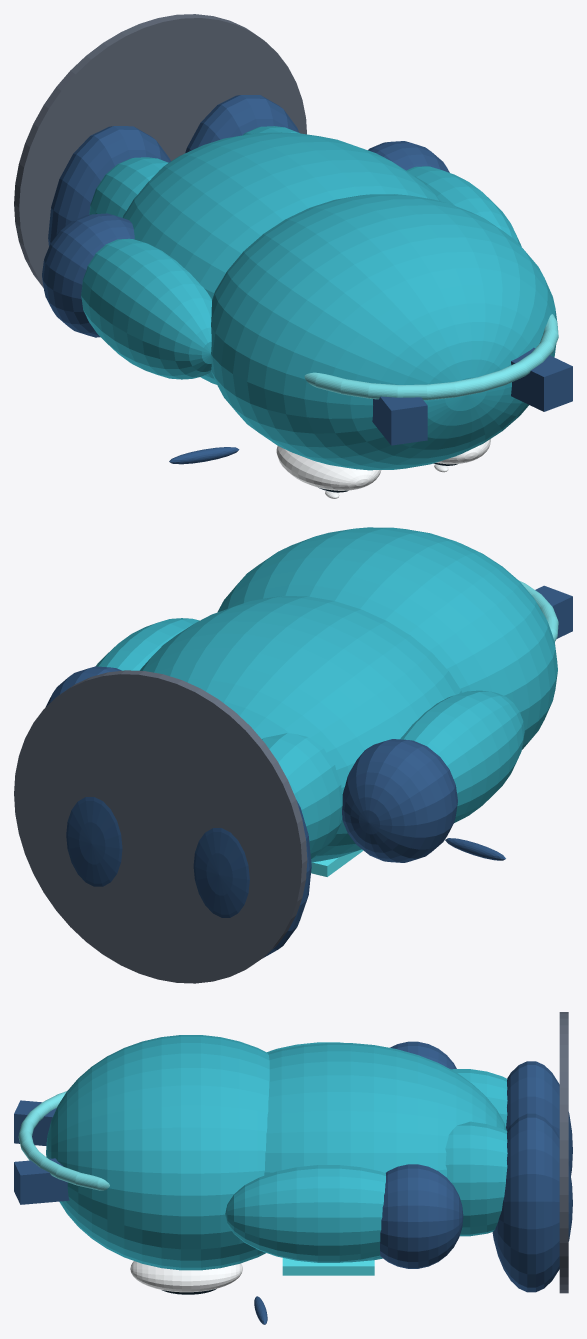
File: luma_reaction_air_quality.glb
3 renders of one model, top to bottom at view 1: azimuth 30°, elevation 25°; view 2: azimuth 150°, elevation 25°; view 3: azimuth 270°, elevation 25°, orthographic. The views are drawn at different scales.
Visible parts, largest first — view 1: CHR_Head, CHR_DisplayBase, CHR_Torso, CHR_LeftArm, CHR_LeftHand, CHR_LeftFoot, CHR_StatusRing, CHR_RightFoot, CHR_LeftLeg, CHR_RightArm, CHR_RightAntenna, CHR_LeftAntenna (+3 smaller); view 2: CHR_DisplayBase, CHR_Torso, CHR_Head, CHR_LeftHand, CHR_LeftArm, CHR_LeftLeg, CHR_LeftFoot, CHR_RightFoot, CHR_RightArm, CHR_LeftAntenna, CHR_RightHand, CHR_LeftBrow (+2 smaller); view 3: CHR_Head, CHR_Torso, CHR_RightArm, CHR_RightFoot, CHR_RightHand, CHR_RightLeg, CHR_LeftFoot, CHR_DisplayBase, CHR_RightEyeWhite, CHR_StatusRing, CHR_RightAntenna, CHR_ChestSensor (+3 smaller).
Boxes of the visible parts, x1=… form: CHR_Head: x1=211, y1=194, x2=557, y2=470; CHR_DisplayBase: x1=14, y1=14, x2=306, y2=287; CHR_Torso: x1=122, y1=132, x2=440, y2=384; CHR_LeftArm: x1=81, y1=238, x2=211, y2=379; CHR_LeftHand: x1=42, y1=213, x2=134, y2=337; CHR_LeftFoot: x1=48, y1=126, x2=170, y2=246; CHR_StatusRing: x1=304, y1=314, x2=558, y2=400; CHR_RightFoot: x1=185, y1=95, x2=299, y2=152; CHR_LeftLeg: x1=89, y1=157, x2=168, y2=217; CHR_RightArm: x1=406, y1=166, x2=521, y2=246; CHR_RightAntenna: x1=511, y1=347, x2=572, y2=411; CHR_LeftAntenna: x1=372, y1=396, x2=427, y2=445; CHR_DisplayBase: x1=14, y1=670, x2=307, y2=983; CHR_Torso: x1=140, y1=595, x2=461, y2=862; CHR_Head: x1=217, y1=527, x2=557, y2=749; CHR_LeftHand: x1=342, y1=739, x2=457, y2=862; CHR_LeftArm: x1=400, y1=690, x2=524, y2=822; CHR_LeftLeg: x1=262, y1=733, x2=342, y2=859; CHR_LeftFoot: x1=193, y1=800, x2=311, y2=958; CHR_RightFoot: x1=66, y1=797, x2=122, y2=886; CHR_RightArm: x1=96, y1=618, x2=199, y2=670; CHR_LeftAntenna: x1=535, y1=585, x2=572, y2=638; CHR_RightHand: x1=45, y1=666, x2=121, y2=707; CHR_LeftBrow: x1=445, y1=838, x2=505, y2=860; CHR_Head: x1=46, y1=1035, x2=269, y2=1270; CHR_Torso: x1=264, y1=1043, x2=506, y2=1262; CHR_RightArm: x1=225, y1=1165, x2=385, y2=1262; CHR_RightFoot: x1=492, y1=1113, x2=572, y2=1292; CHR_RightHand: x1=380, y1=1164, x2=463, y2=1268; CHR_RightLeg: x1=445, y1=1121, x2=507, y2=1236; CHR_LeftFoot: x1=506, y1=1061, x2=572, y2=1175; CHR_DisplayBase: x1=559, y1=1012, x2=568, y2=1293; CHR_RightEyeWhite: x1=130, y1=1261, x2=242, y2=1292; CHR_StatusRing: x1=18, y1=1091, x2=109, y2=1190; CHR_RightAntenna: x1=14, y1=1158, x2=69, y2=1204; CHR_ChestSensor: x1=282, y1=1258, x2=374, y2=1275.
Bounding box in the file's own units: 2.64 × 1.9 × 3.78.
